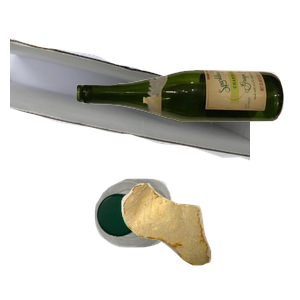cardboard: (10, 35, 250, 188)
glass: (74, 67, 300, 181)
plastic: (92, 176, 257, 300)
trash: (119, 181, 300, 300)
